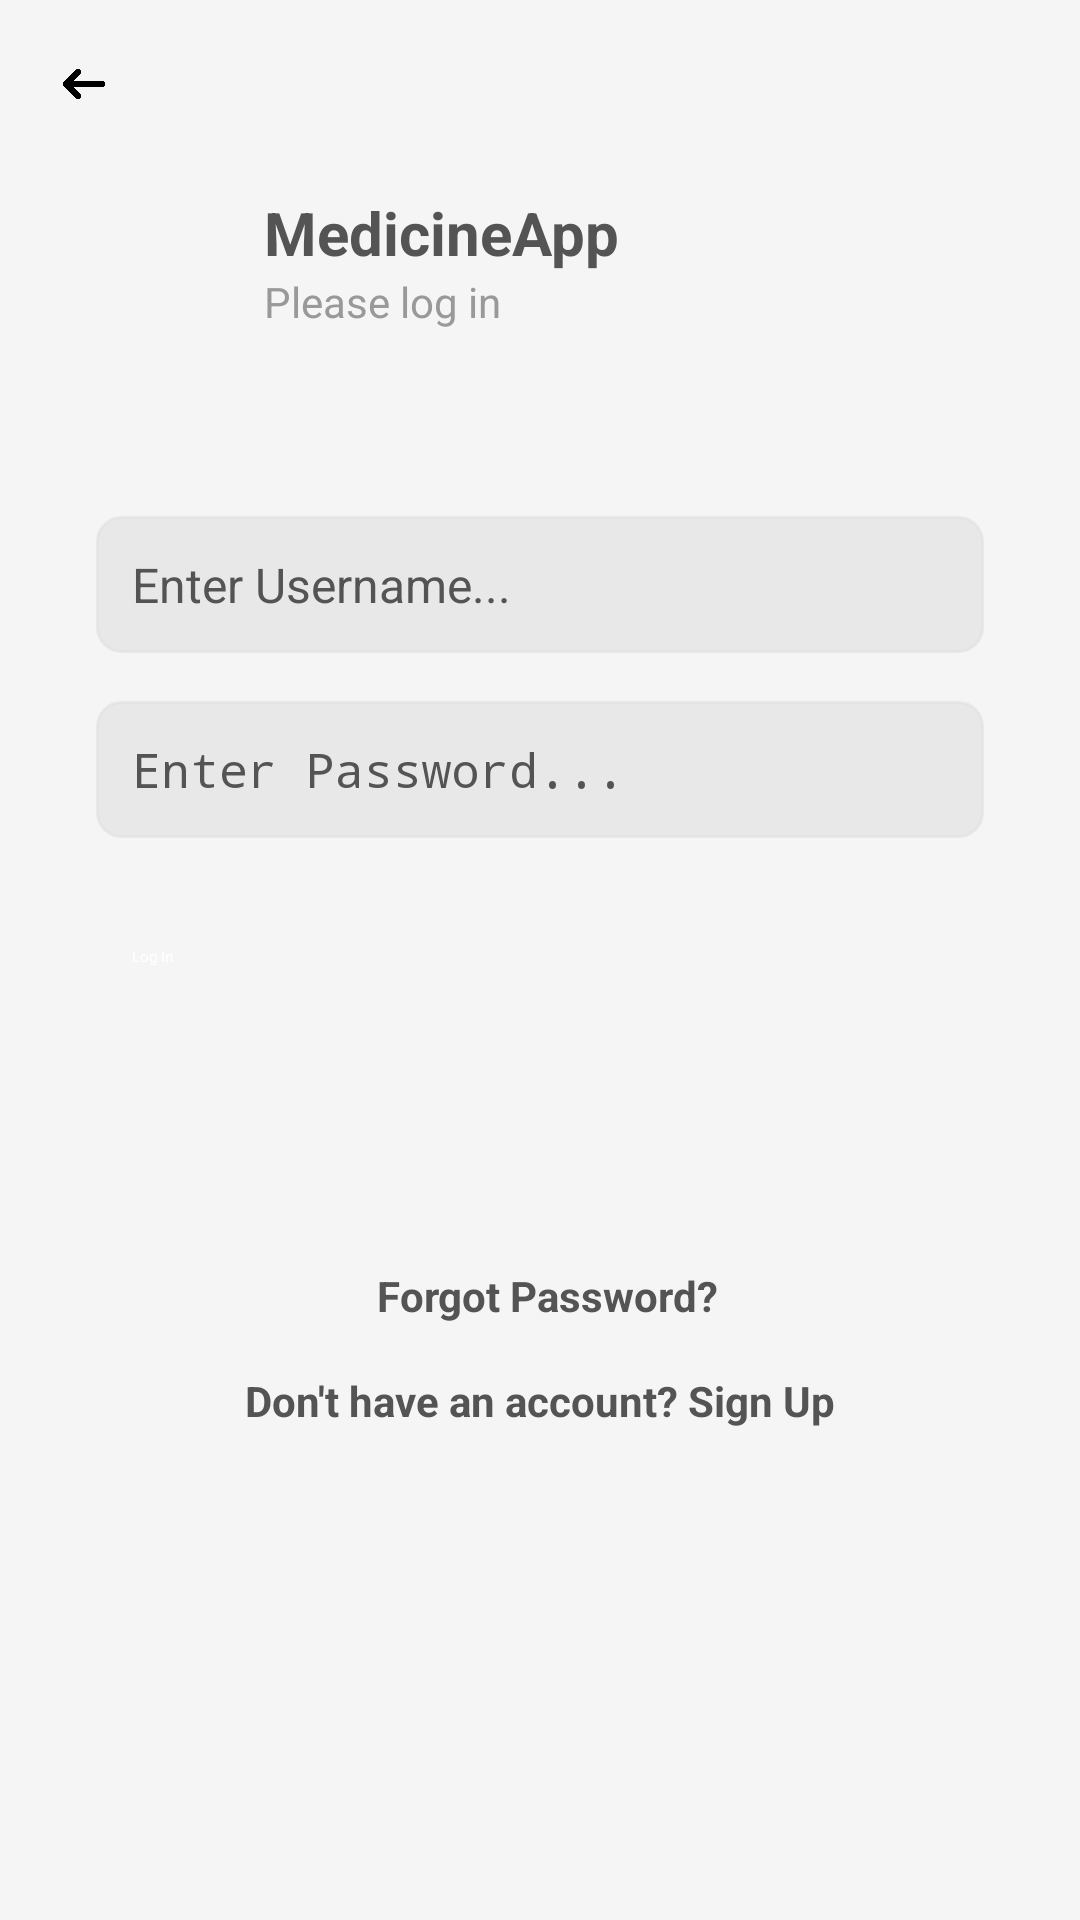

Where to tap for icons on this 1080px x 1920px app screen, as point (x, y):
Back to Main Fragment: point (84, 84)
